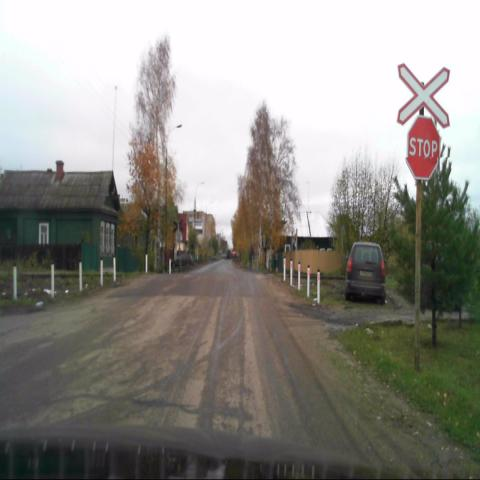2_5: (407, 116, 440, 180)
